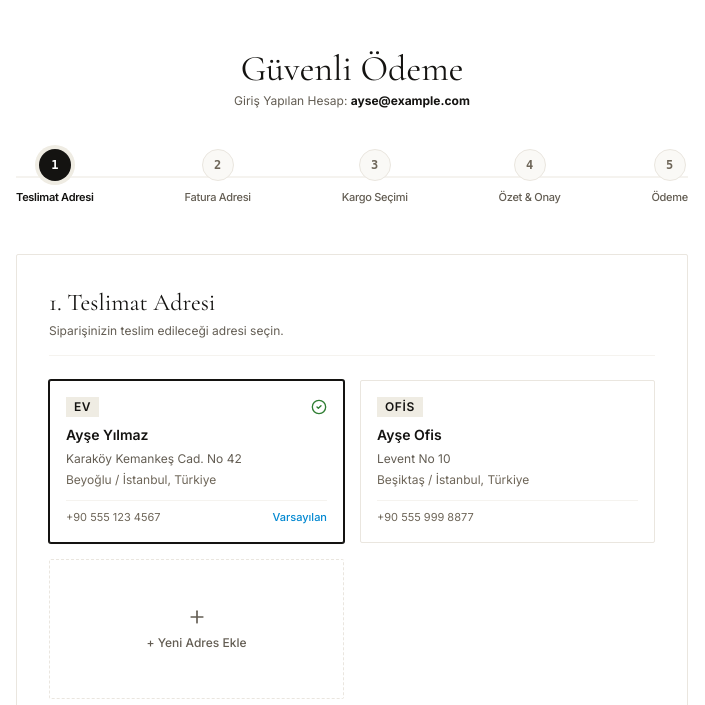
Test: CheckoutPage Component › allows unchecking same-as-shipping and selecting a distinct billing address
Select distinct delivery address
Step 1. Click the text "Ayşe Ofis" → (409, 434), box x1=377 y1=426 x2=442 y2=442
(page scrolled)
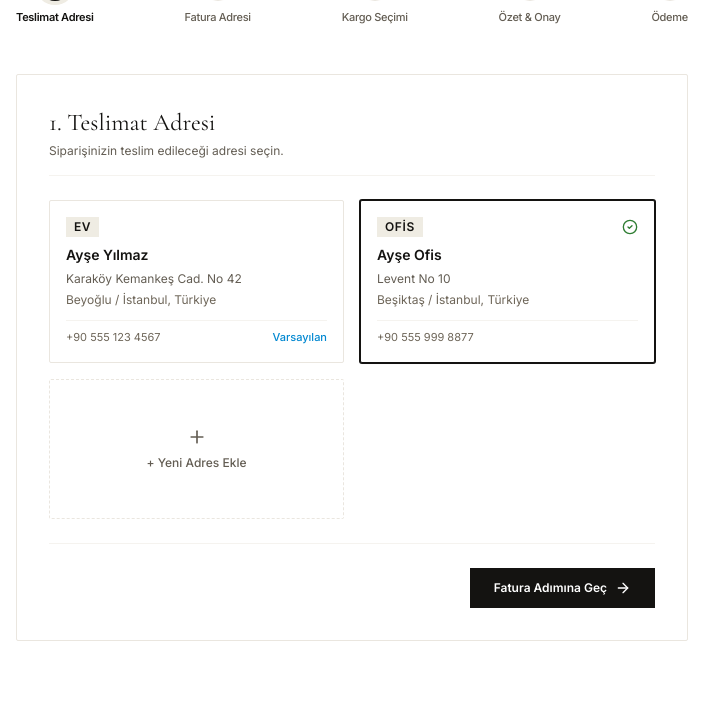
Step 2. Click the button "Fatura Adımına Geç" → (562, 588), box x1=470 y1=568 x2=655 y2=608
(page scrolled)
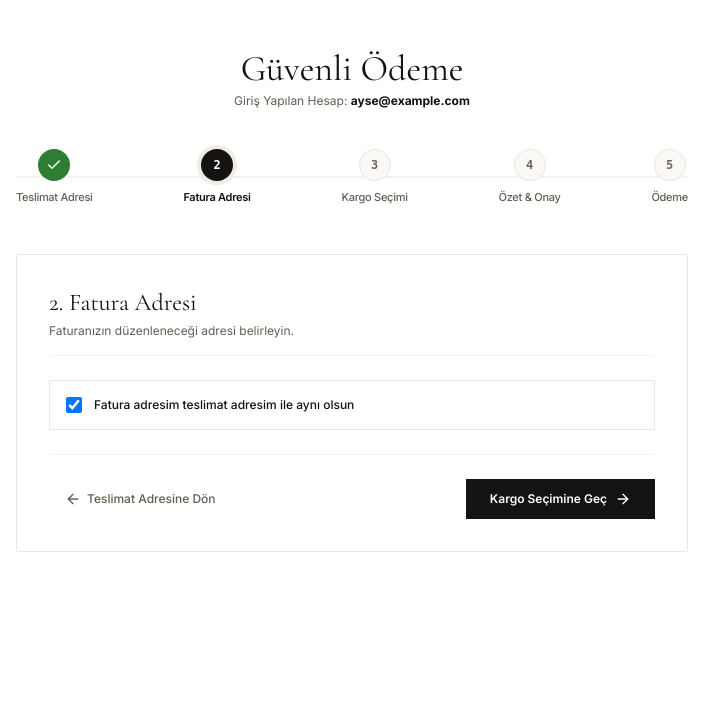
Expected: the heading "2. Fatura Adresi" is shown, x1=49 y1=288 x2=197 y2=316
Step 3. Click the checkbox labelled "Fatura adresim teslimat adresim ile aynı olsun" → (74, 404), box x1=66 y1=396 x2=82 y2=412
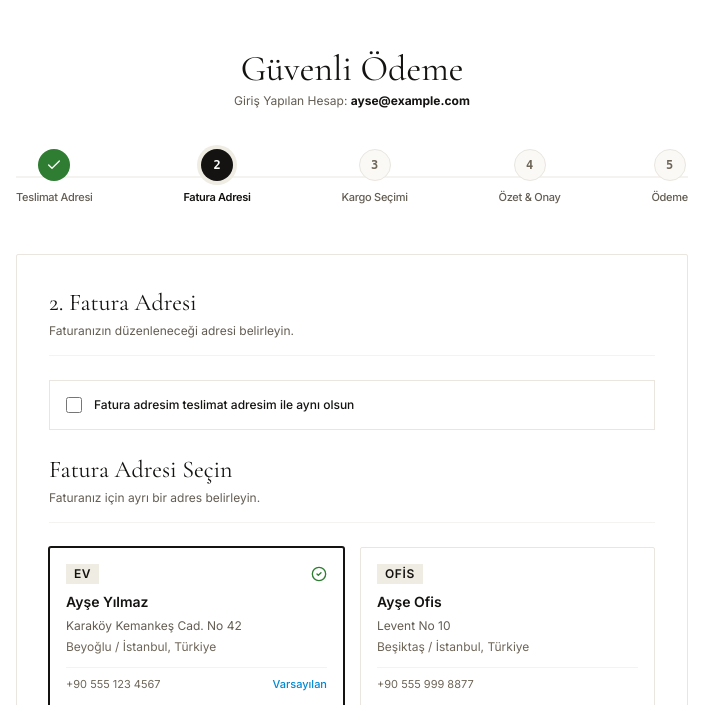
Select different billing address
Step 4. Click the text "Ayşe Yılmaz" → (107, 601), box x1=66 y1=592 x2=148 y2=610
(page scrolled)
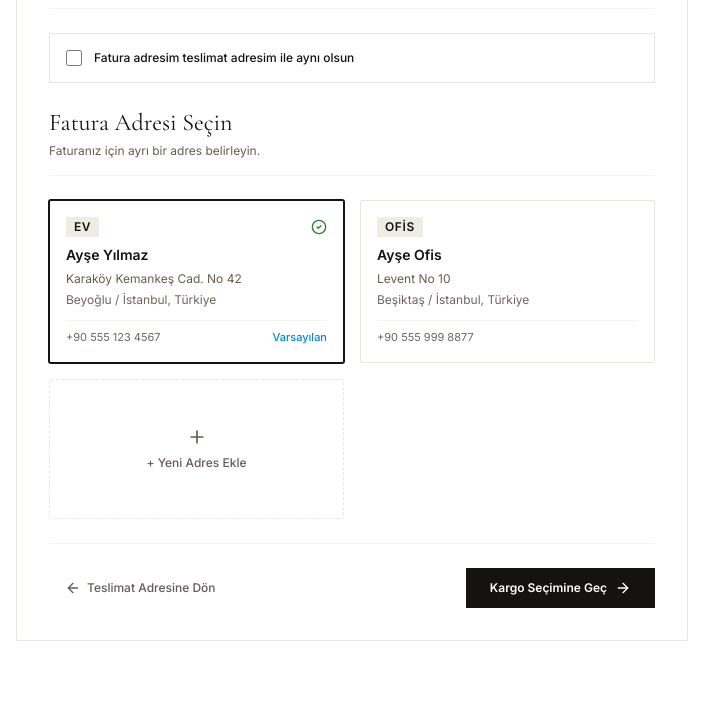
Step back to delivery address using back button
Step 5. Click the button "Teslimat Adresine Dön" → (140, 588), box x1=49 y1=568 x2=232 y2=608
(page scrolled)
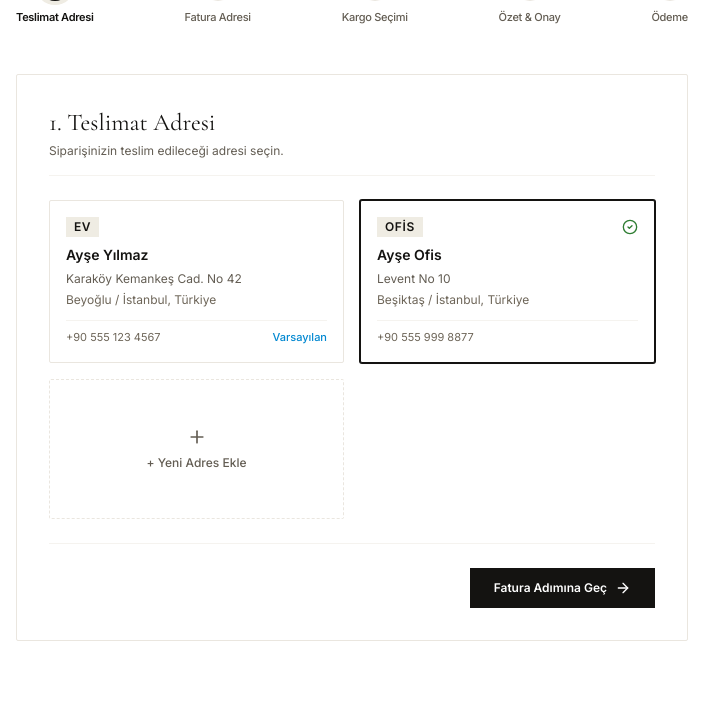
Expected: the heading "1. Teslimat Adresi" is shown, x1=49 y1=108 x2=215 y2=136
